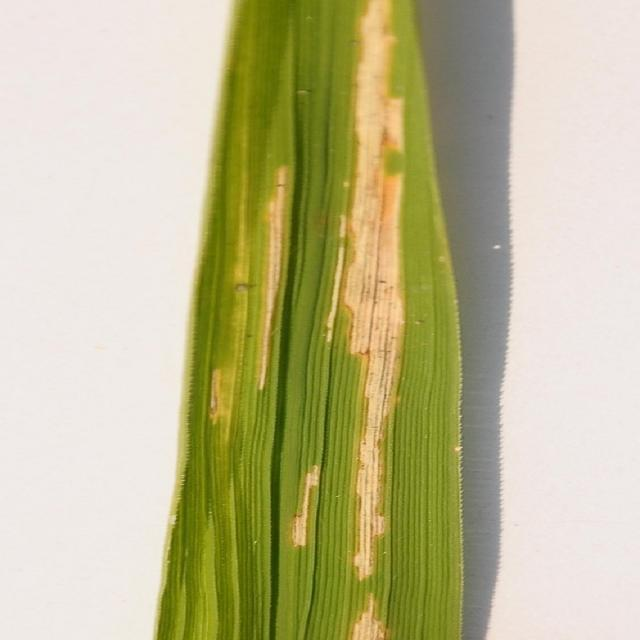leaf blight: (248, 1, 413, 640)
